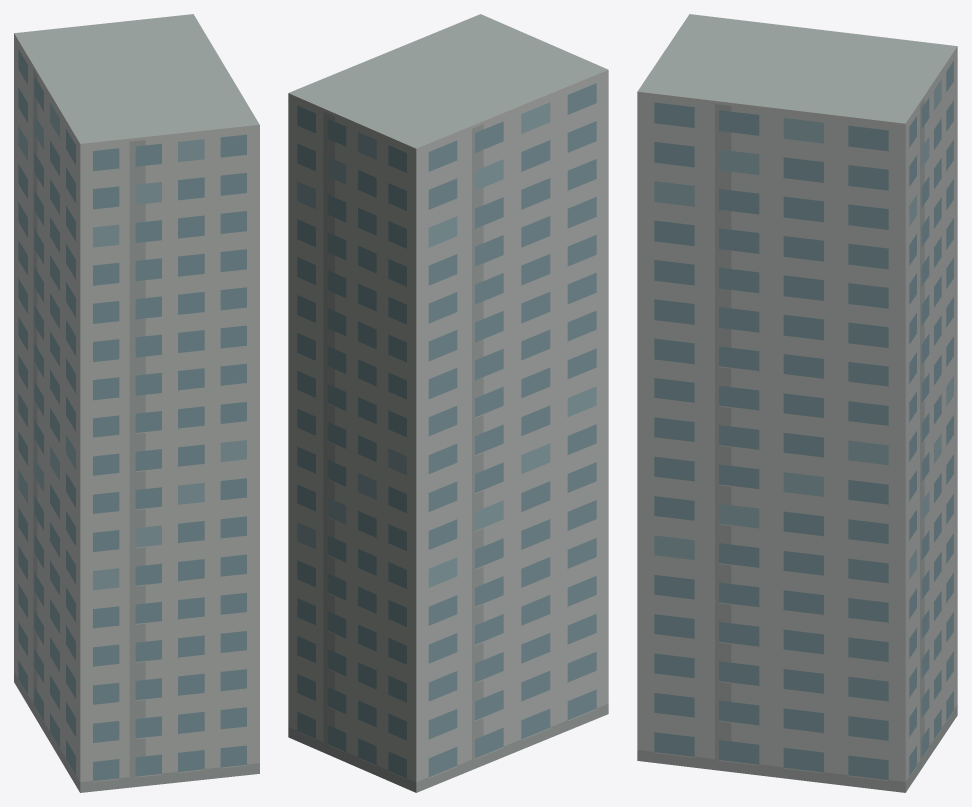
Rendered from residential-da9535d4-bfcd-48eb-813b-62c80a66cce4.glb.
3 views of the same model, side by side, from view 1: azimuth 30°, elevation 25°; view 2: azimuth 150°, elevation 25°; view 3: azimuth 270°, elevation 25° (orthographic). The views are drawn at different scales.
Visible parts, largest first — view 1: residential-da9535d4-bfcd-48eb-813b-62c80a66cce4.tmp; view 2: residential-da9535d4-bfcd-48eb-813b-62c80a66cce4.tmp; view 3: residential-da9535d4-bfcd-48eb-813b-62c80a66cce4.tmp.
Part boxes in pixels (bbox=[...]): residential-da9535d4-bfcd-48eb-813b-62c80a66cce4.tmp: bbox=[14, 14, 259, 792]; residential-da9535d4-bfcd-48eb-813b-62c80a66cce4.tmp: bbox=[288, 14, 608, 792]; residential-da9535d4-bfcd-48eb-813b-62c80a66cce4.tmp: bbox=[637, 14, 957, 792].
Bounding box in the file's own units: 18.25 × 51.85 × 22.5.
